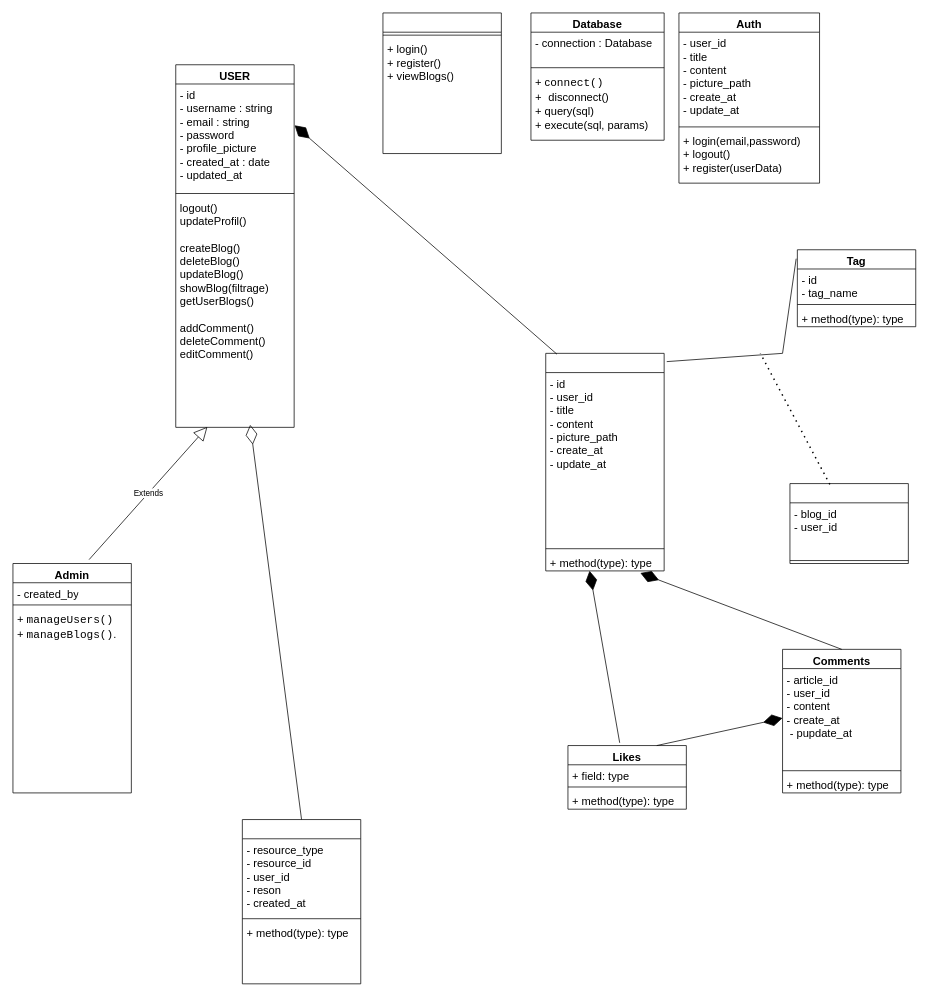
The diagram is 929 pixels wide and 999 high, and some of its shapes have lost their labels. The shapes that lost their labels are listed below. From the top down, each one's box as (x1, y1, x2, y2) in pixels, then its label:
(382, 12, 501, 154): Geust
(545, 353, 664, 571): Blog
(789, 483, 908, 564): Blog_tag
(242, 819, 361, 984): Signal
